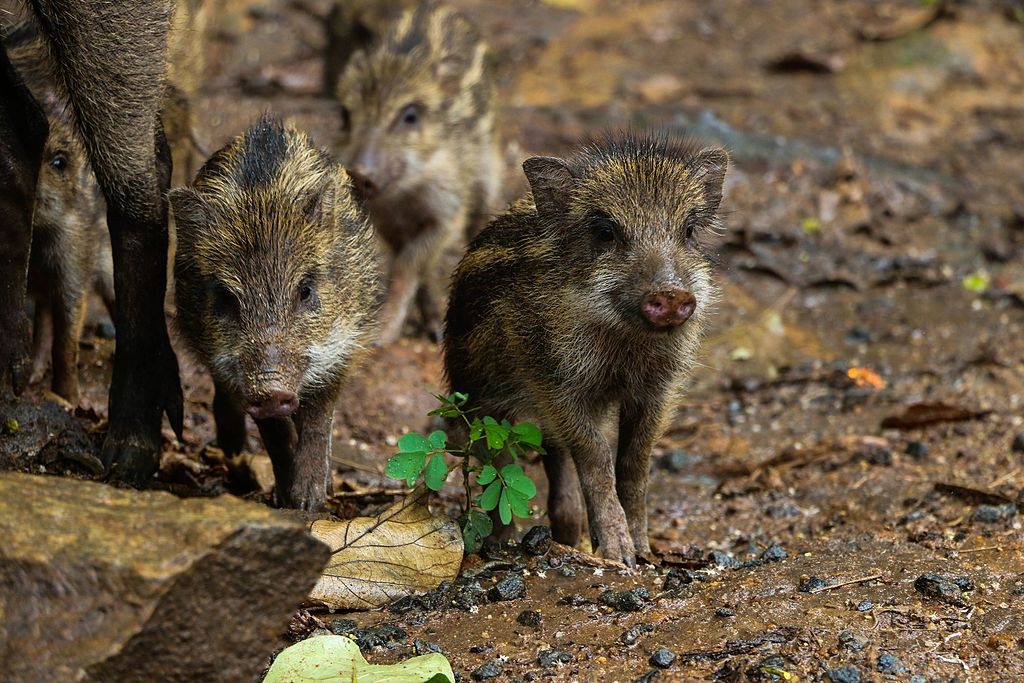wild boar: (427, 137, 748, 578), (158, 104, 398, 519)
